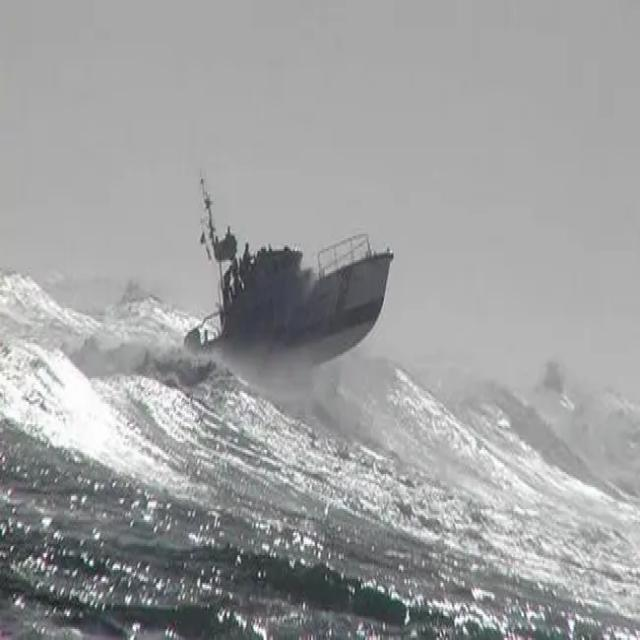houseboat: (183, 179, 389, 375)
